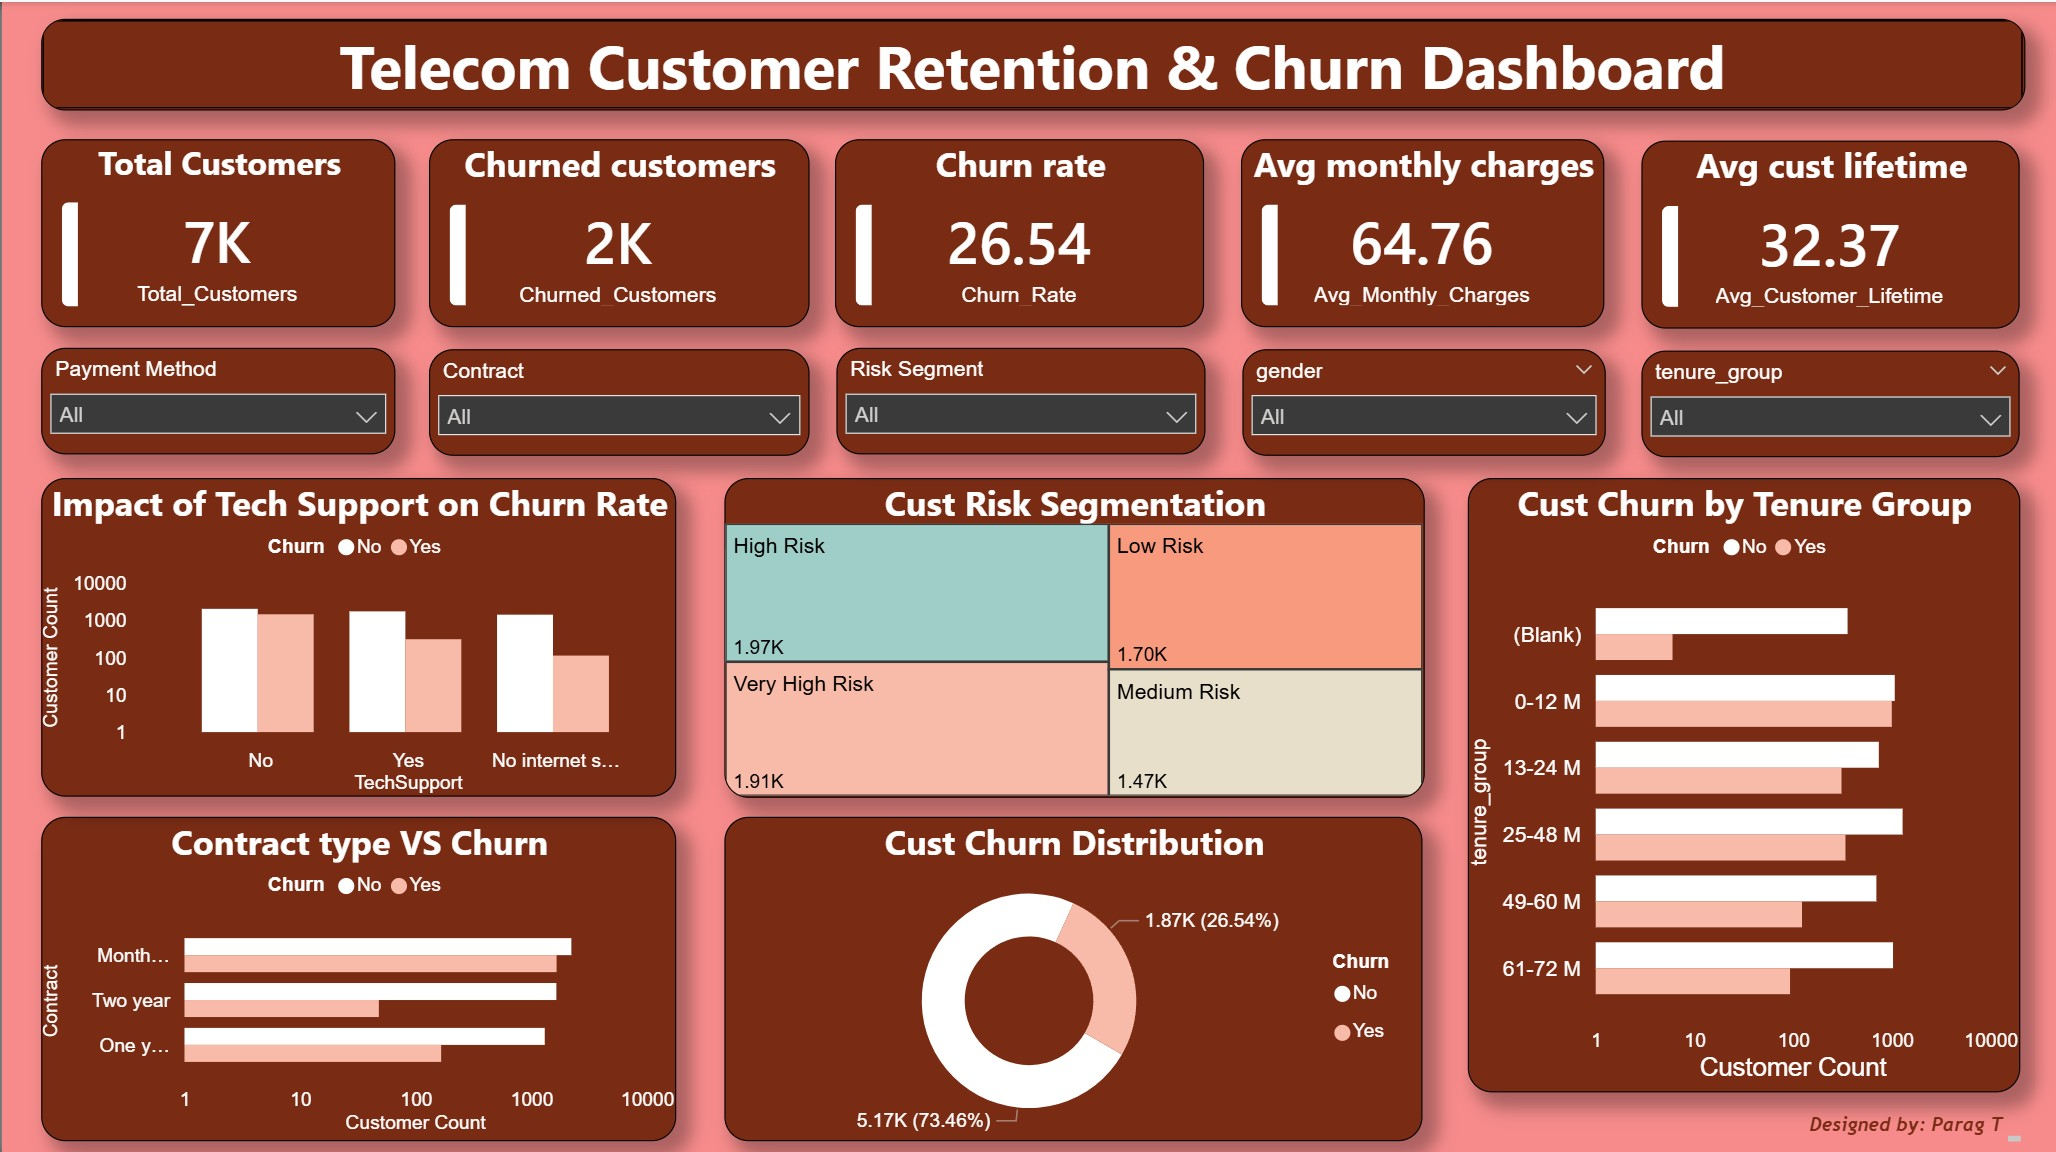

Layout of this report page (visuals, bound fields, positions):
{"tool":"powerbi","page":{"name":"Executive overview","canvas":[1280,720],"ordinal":0},"visuals":[{"type":"shape","box":[24.4,10.3,1236.1,57.3],"z":0},{"type":"cardVisual","title":"Total Customers","fields":{"Data":["cleaned_customer_churn.Total_Customers"]},"box":[24.4,85.5,220.9,117.5],"z":1000},{"type":"cardVisual","title":"Churned customers","fields":{"Data":["cleaned_customer_churn.Churned_Customers"]},"box":[266,85.5,236.9,117.5],"z":2000},{"type":"cardVisual","title":"Churn rate","fields":{"Data":["cleaned_customer_churn.Churn_Rate"]},"box":[519.4,85.7,230.3,117.5],"z":3000},{"type":"cardVisual","title":"Avg monthly charges","fields":{"Data":["cleaned_customer_churn.Avg_Monthly_Charges"]},"box":[772.3,85.7,226.5,117.5],"z":4000},{"type":"cardVisual","title":"Avg cust lifetime","fields":{"Data":["cleaned_customer_churn.Avg_Customer_Lifetime"]},"box":[1021.4,86.6,235.9,117.5],"z":5000},{"type":"slicer","fields":{"Values":["cleaned_customer_churn.Contract"]},"box":[266,216.2,236.9,66.7],"z":6000},{"type":"clusteredBarChart","title":"Cust Churn by Tenure Group","fields":{"Category":["cleaned_customer_churn.tenure_group"],"Series":["cleaned_customer_churn.Churn"],"Y":["cleaned_customer_churn.Customer Count"]},"box":[913.7,297,344,382.6],"z":7000},{"type":"treemap","title":"Cust Risk Segmentation","fields":{"Group":["cleaned_customer_churn.Risk_Segment"],"Values":["CountNonNull(cleaned_customer_churn.customerID)"]},"box":[450.3,297,436.2,199.3],"z":8000},{"type":"slicer","fields":{"Values":["cleaned_customer_churn.gender"]},"box":[772.7,216.2,226.5,66.7],"z":9000},{"type":"slicer","fields":{"Values":["cleaned_customer_churn.PaymentMethod"]},"box":[24.4,215.3,220.9,66.7],"z":10000},{"type":"slicer","title":"Risk Segment","fields":{"Values":["cleaned_customer_churn.Risk_Segment"]},"box":[519.8,215.3,230.3,66.7],"z":11000},{"type":"donutChart","title":"Cust Churn Distribution","fields":{"Category":["cleaned_customer_churn.Churn"],"Y":["CountNonNull(cleaned_customer_churn.customerID)"]},"box":[450.3,507.6,435.2,202.1],"z":12000},{"type":"clusteredBarChart","title":"  Contract type VS   Churn","fields":{"Category":["cleaned_customer_churn.Contract"],"Series":["cleaned_customer_churn.Churn"],"Y":["cleaned_customer_churn.Customer Count"]},"box":[24.4,507.6,395.7,202.1],"z":13000},{"type":"clusteredColumnChart","title":"Impact of Tech Support on Churn Rate","fields":{"Category":["cleaned_customer_churn.TechSupport"],"Series":["cleaned_customer_churn.Churn"],"Y":["cleaned_customer_churn.Customer Count"]},"box":[24.4,297,395.7,198.3],"z":14000},{"type":"slicer","fields":{"Values":["cleaned_customer_churn.tenure_group"]},"box":[1021.8,217.1,235.9,66.7],"z":14001},{"type":"textbox","title":"Designed by: Parag T","box":[1115.8,690,141.9,19.7],"z":14002}]}

Visuals, with their boxes in screenshot pixels (x1, y1, x2, y2), scaled from the page's 1280x720 canvas onto the 2056x1152 screenshot:
shape: <bbox>39, 16, 2025, 108</bbox>
"Total Customers" cardVisual: <bbox>39, 137, 394, 325</bbox>
"Churned customers" cardVisual: <bbox>427, 137, 808, 325</bbox>
"Churn rate" cardVisual: <bbox>834, 137, 1204, 325</bbox>
"Avg monthly charges" cardVisual: <bbox>1241, 137, 1604, 325</bbox>
"Avg cust lifetime" cardVisual: <bbox>1641, 139, 2020, 327</bbox>
slicer - cleaned_customer_churn.Contract: <bbox>427, 346, 808, 453</bbox>
"Cust Churn by Tenure Group" clusteredBarChart: <bbox>1468, 475, 2020, 1087</bbox>
"Cust Risk Segmentation" treemap: <bbox>723, 475, 1424, 794</bbox>
slicer - cleaned_customer_churn.gender: <bbox>1241, 346, 1605, 453</bbox>
slicer - cleaned_customer_churn.PaymentMethod: <bbox>39, 344, 394, 451</bbox>
"Risk Segment" slicer: <bbox>835, 344, 1205, 451</bbox>
"Cust Churn Distribution" donutChart: <bbox>723, 812, 1422, 1136</bbox>
"  Contract type VS   Churn" clusteredBarChart: <bbox>39, 812, 675, 1136</bbox>
"Impact of Tech Support on Churn Rate" clusteredColumnChart: <bbox>39, 475, 675, 792</bbox>
slicer - cleaned_customer_churn.tenure_group: <bbox>1641, 347, 2020, 454</bbox>
"Designed by: Parag T" textbox: <bbox>1792, 1104, 2020, 1136</bbox>
